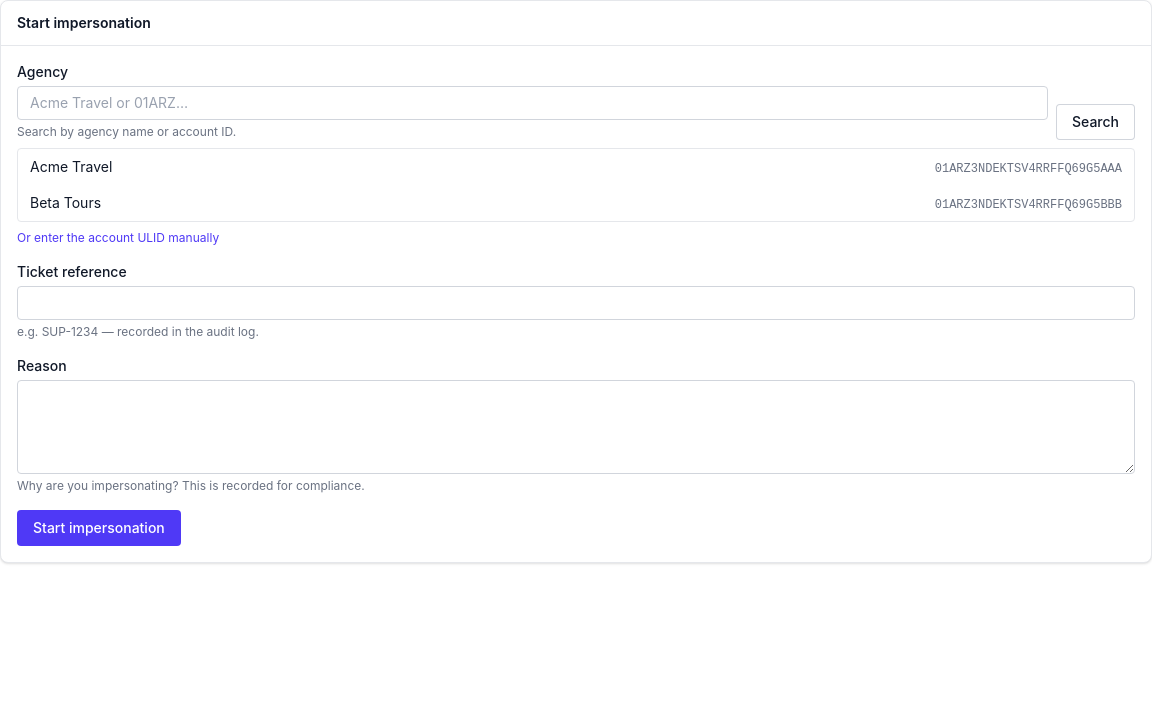
Scenario: ImpersonationStartForm — manual fallback › HH — clicking the manual-mode toggle shows the manual ULID input
Click the button with test id "manual-mode-toggle" at (118, 238), box [17,230,219,246]
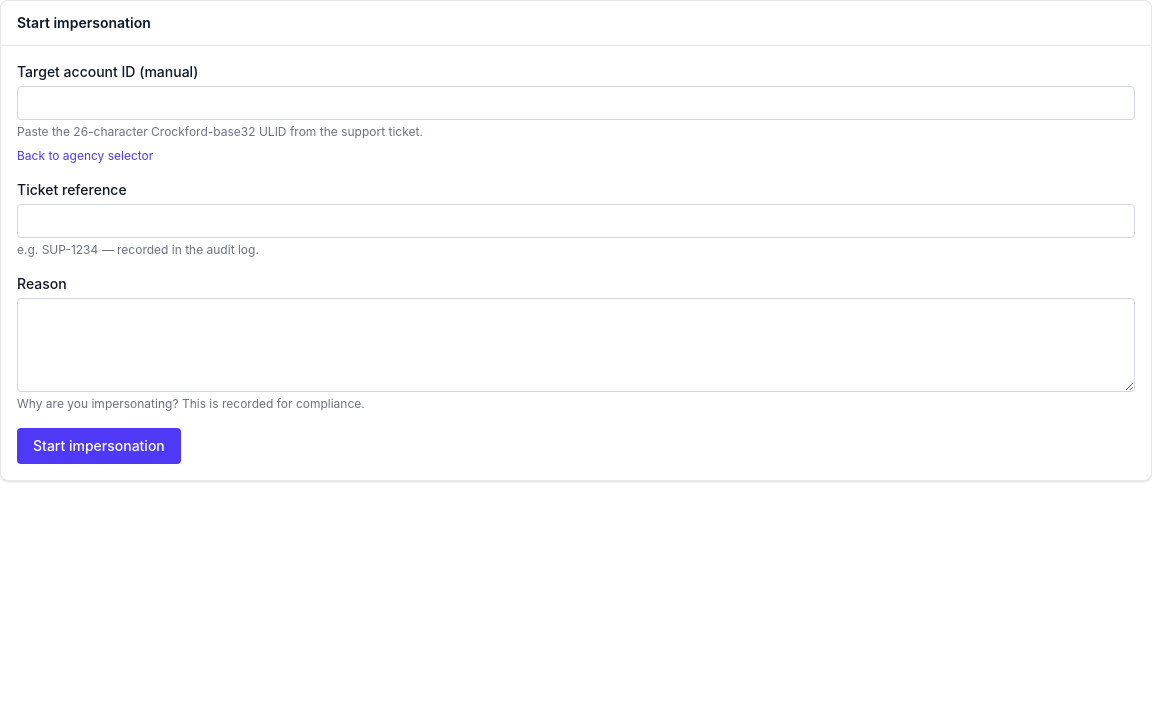
Result: the field with test id "manual-target-account-id" is shown at [17,86,1135,120]
Result: the list with test id "agency-list" is gone
